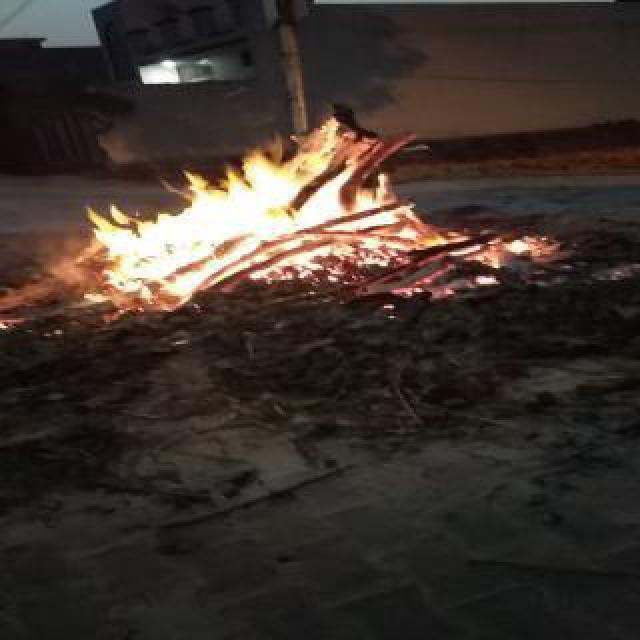Fire: (84, 90, 500, 318)
